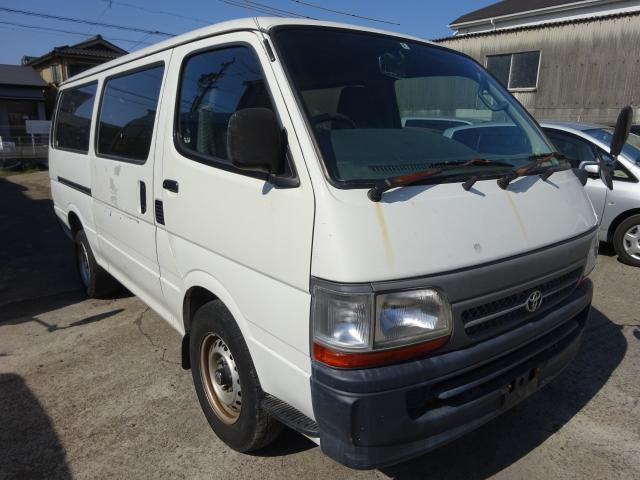Van: (52, 18, 600, 458)
